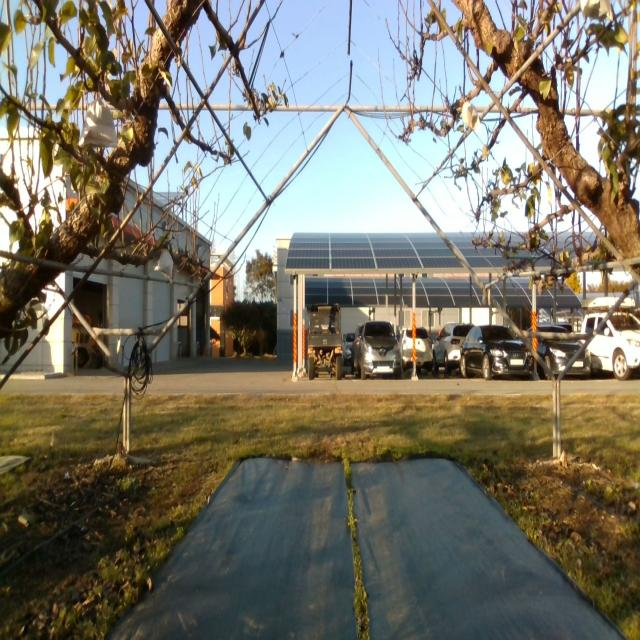pearbags: (78, 92, 119, 147), (154, 244, 173, 283), (580, 0, 614, 20), (462, 101, 481, 130)
